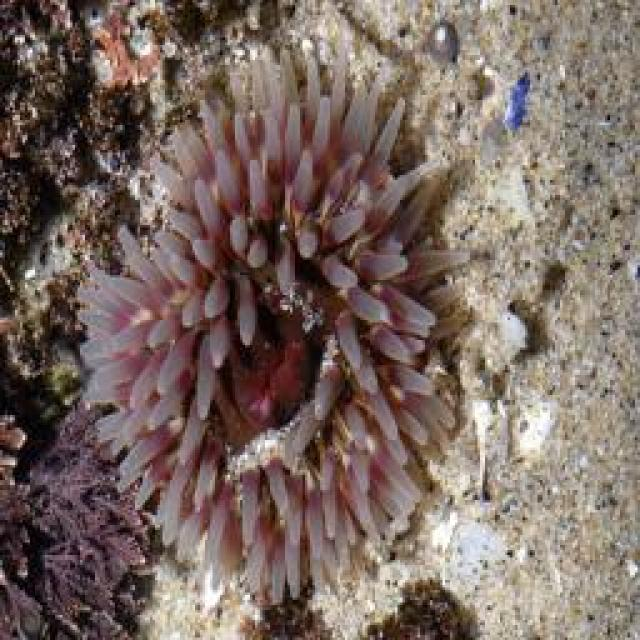reefs: (75, 34, 471, 607)
